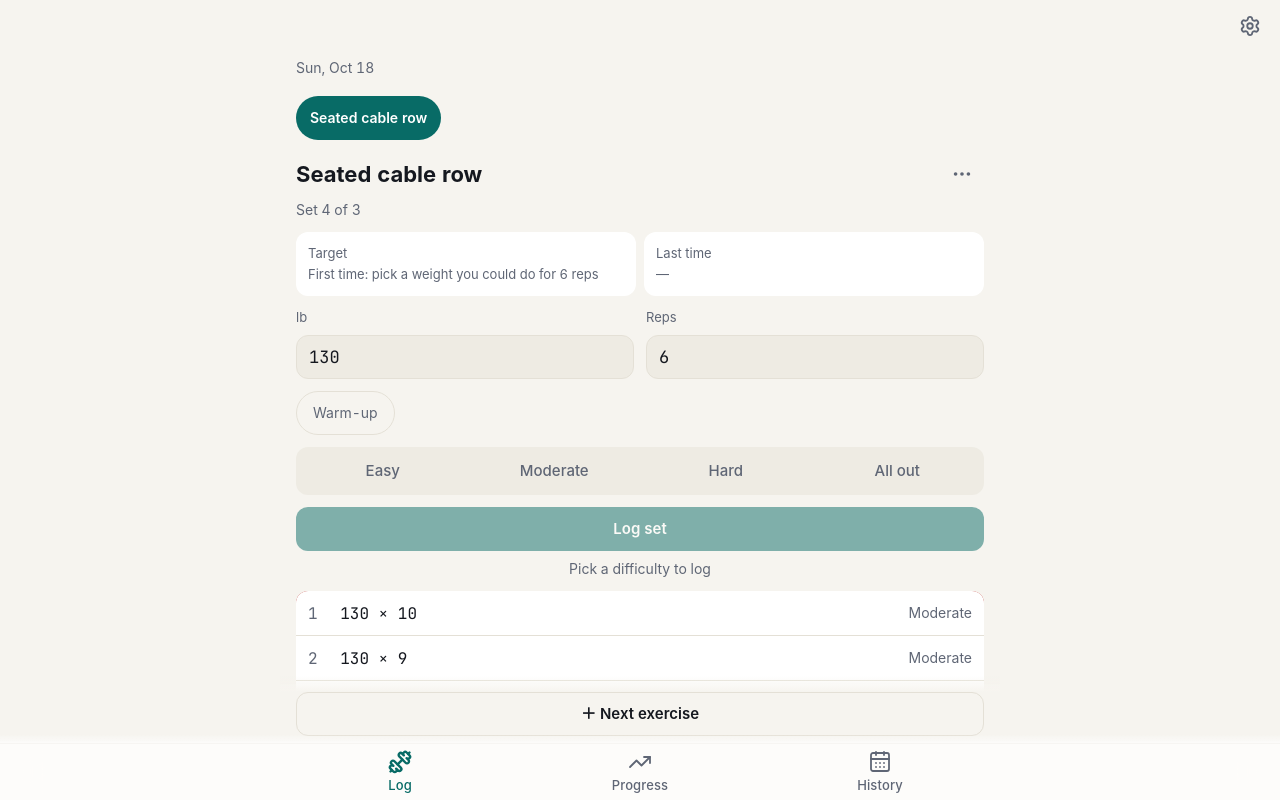
it: wave 3 review › Undo while fixing another set ends the edit, so no set is overwritten
Click the button "1 130 × 10 Moderate": (379, 613) [296,591,984,635]
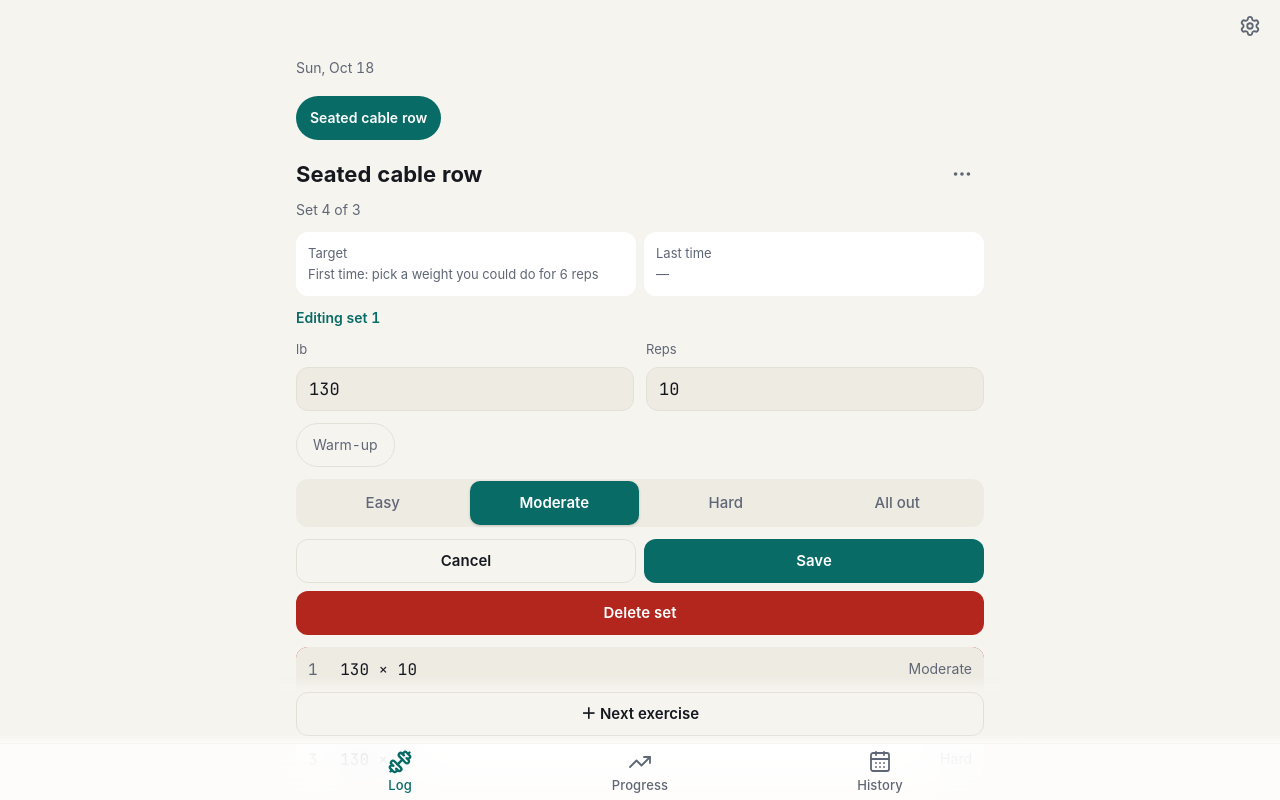
Click the button "Delete set": (640, 613) [296,591,984,635]
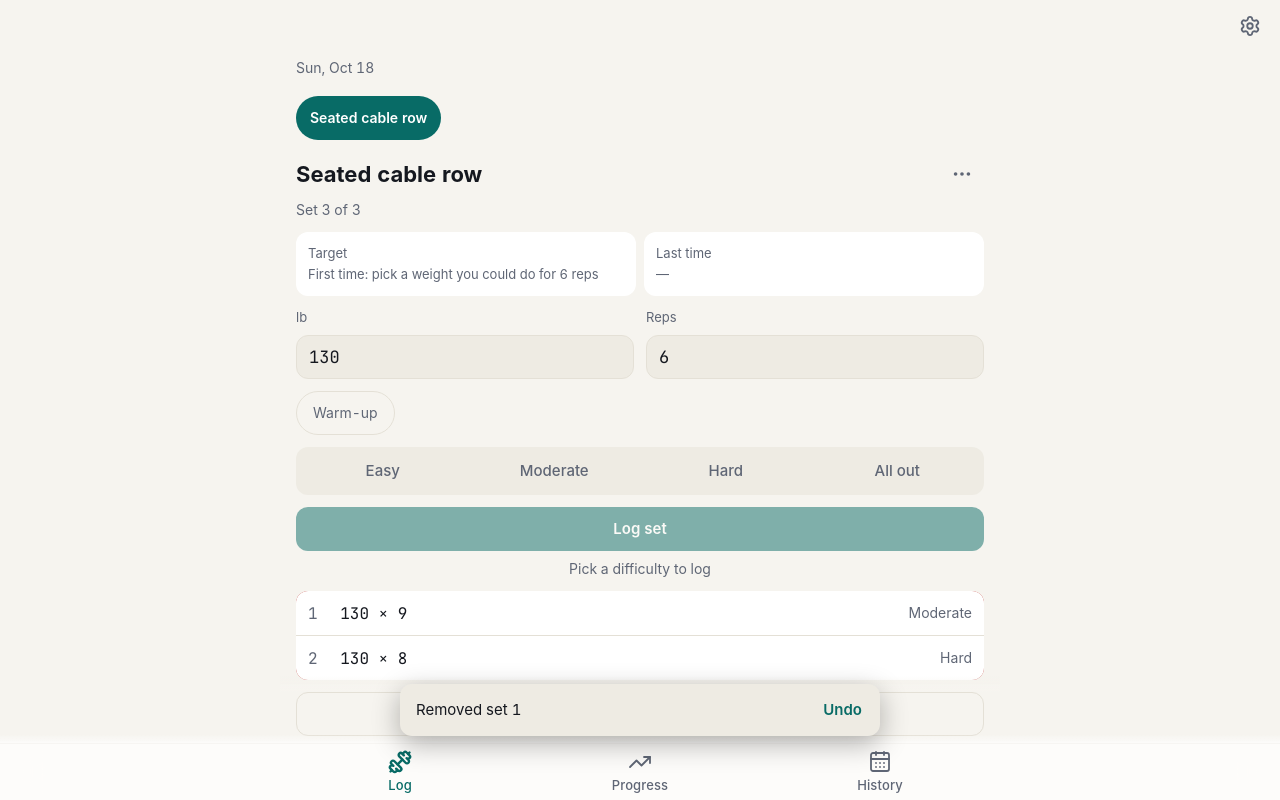
Click the button "2 130 × 8 Hard": (374, 658) [296,636,984,680]
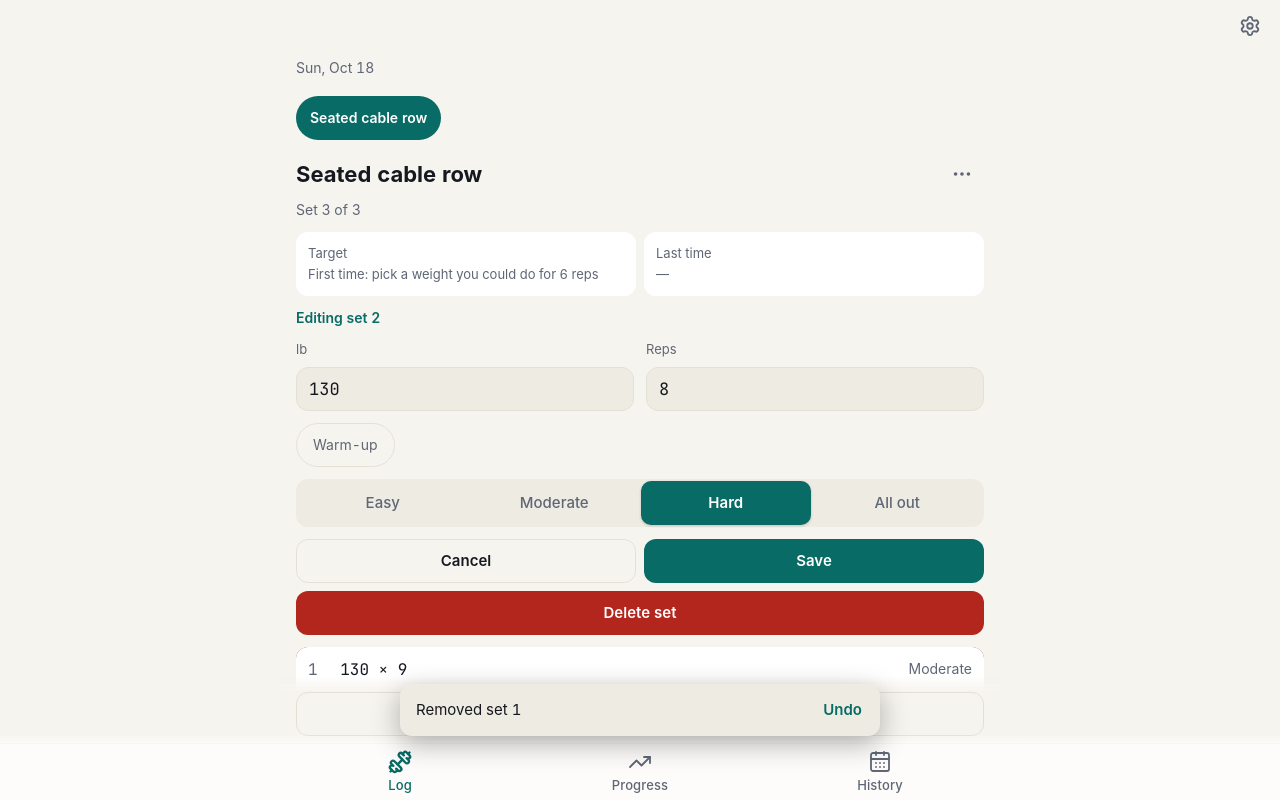
Check: the text "Editing set 2" is shown, box [296,309,380,326]
Click the button "Undo": (843, 710) [809,688,876,732]
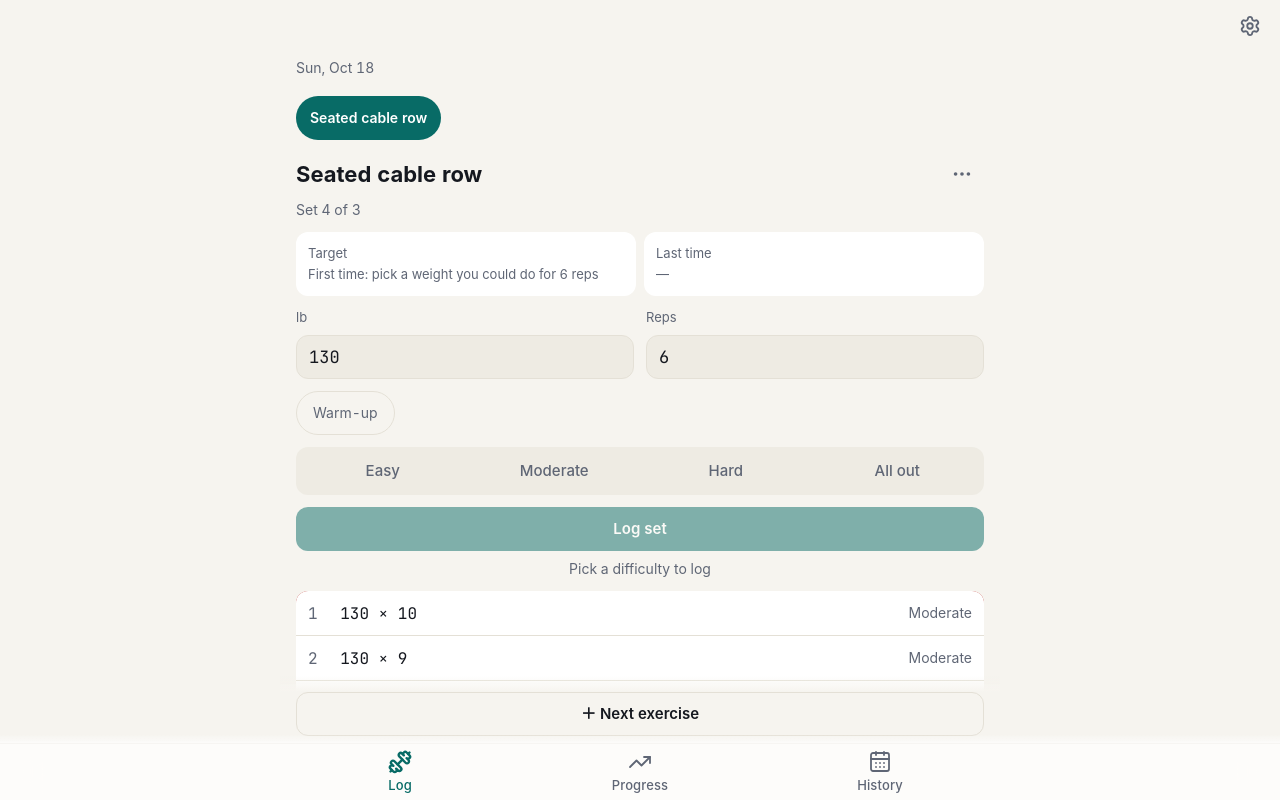
Check: the text "Editing" is gone
Check: the button "Log set" is shown, box [296,507,984,551]
